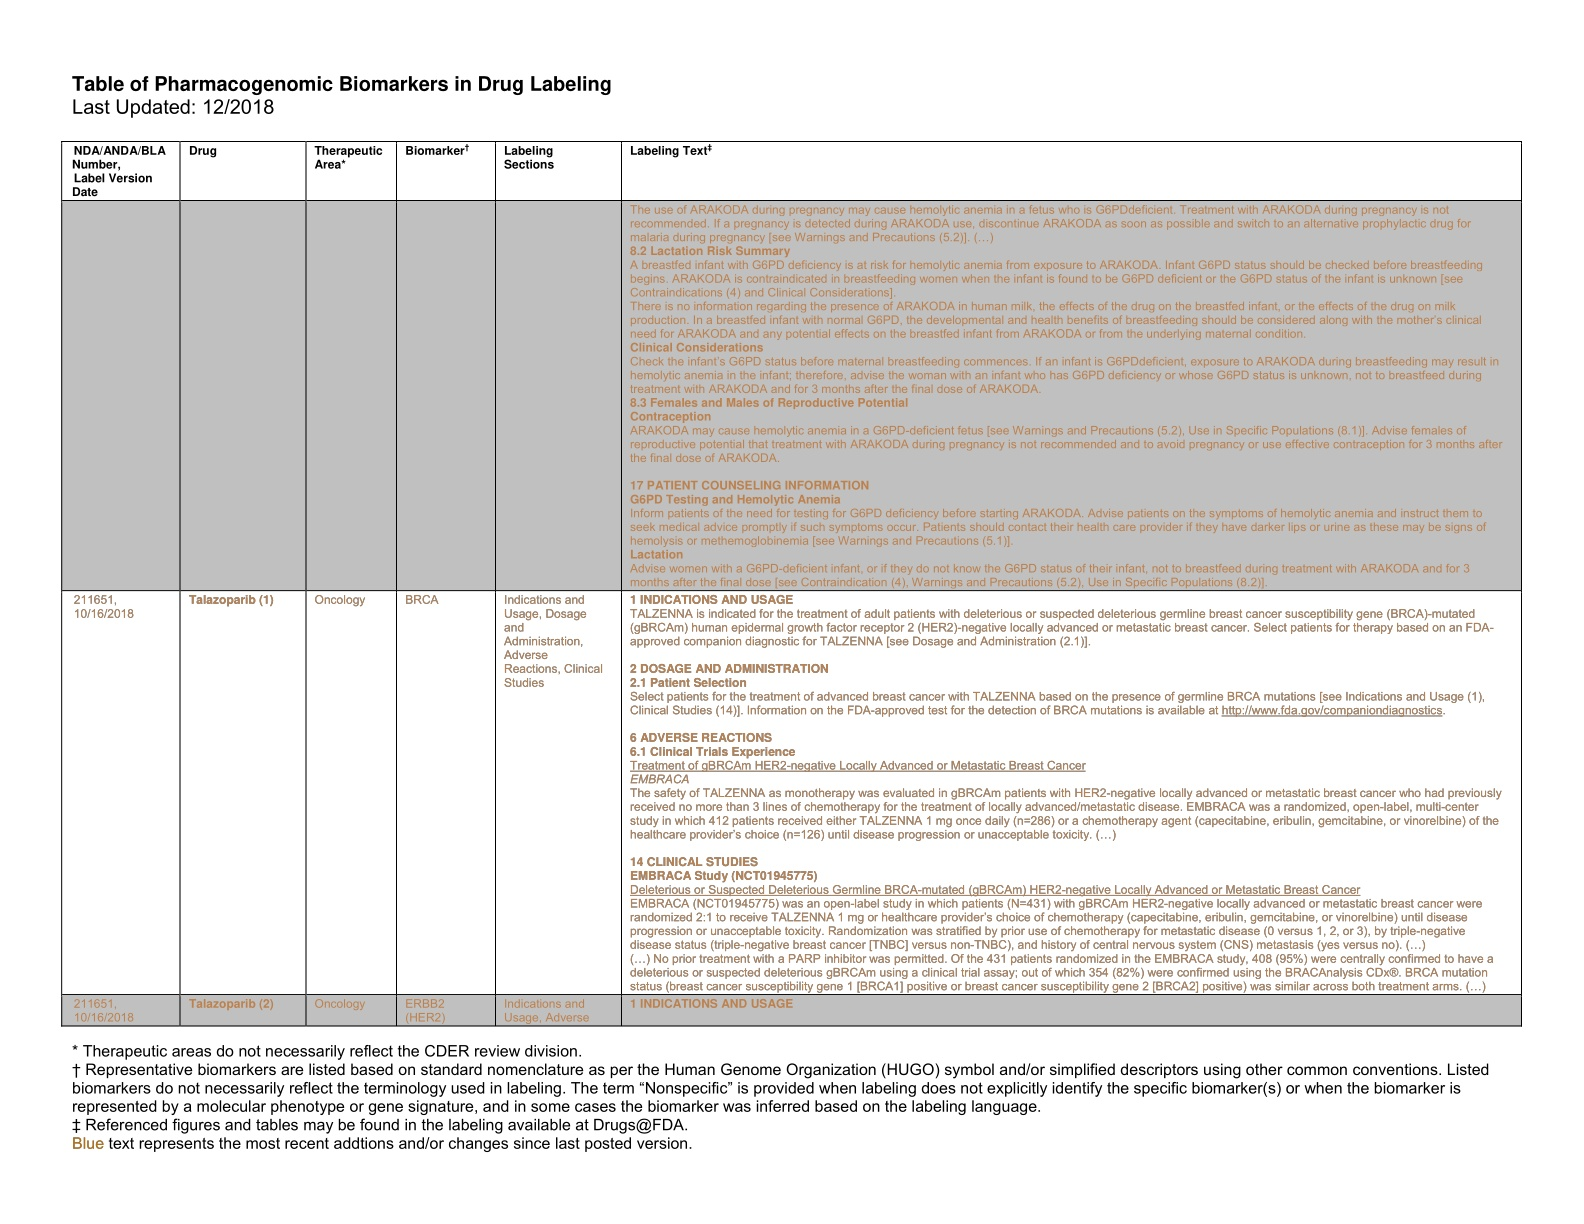full_lined: (60, 141, 1522, 1027)
